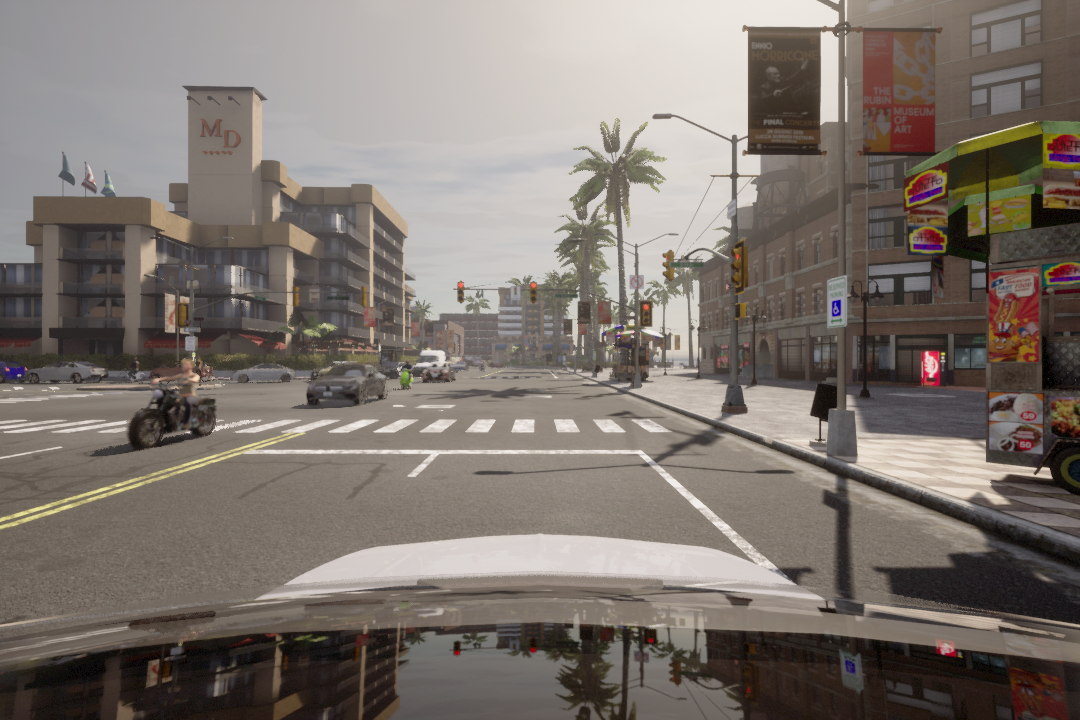TrafficLight: (730, 237, 748, 294), (661, 249, 677, 284), (641, 301, 654, 328), (527, 283, 539, 307), (456, 279, 464, 303)
walkside: (2, 417, 705, 448)
